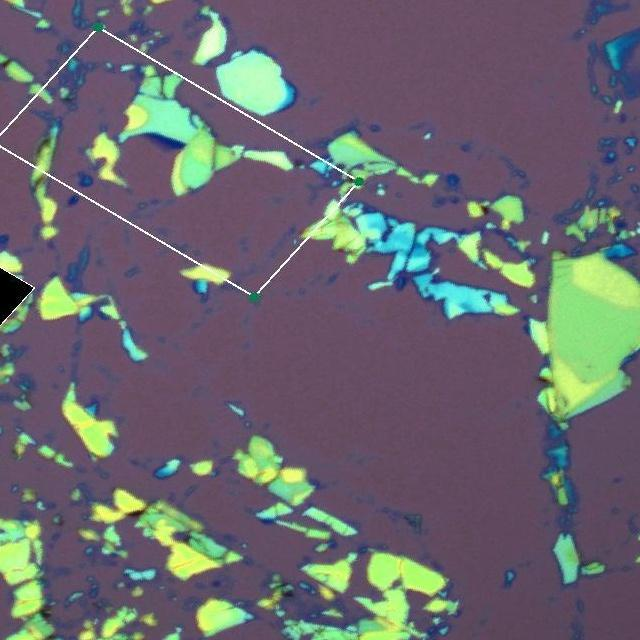monolayer-eWW4: (141, 134, 172, 154)
